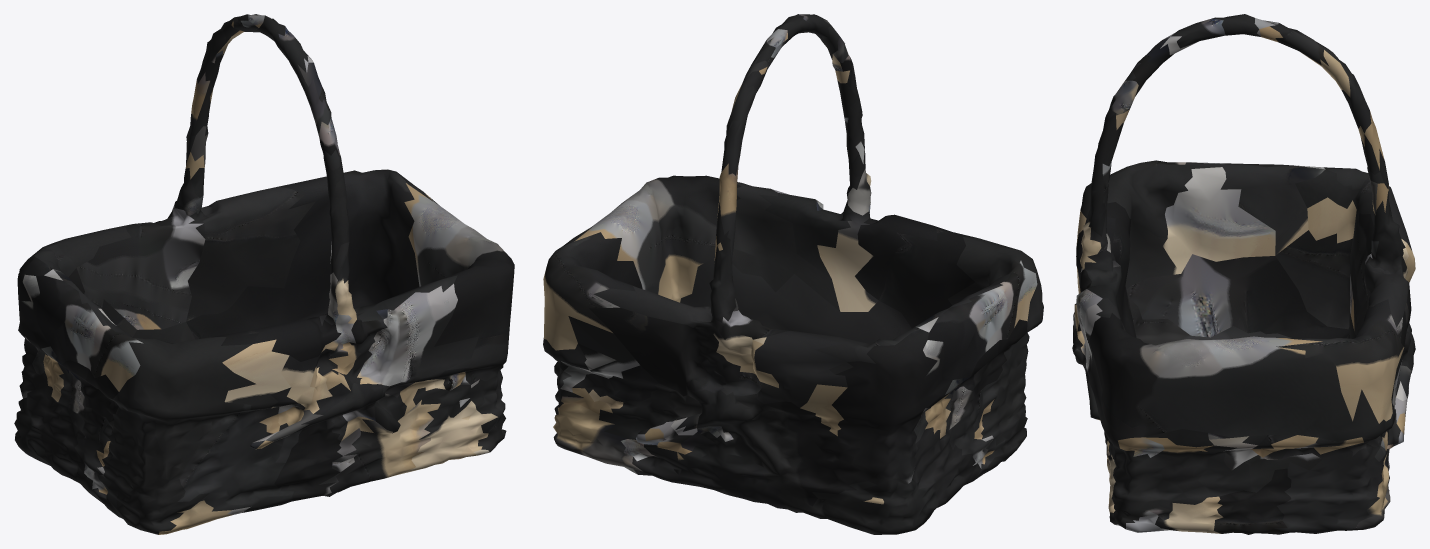
The model's file is PicnicBasket.obj.
The picture shows the model from 3 angles, left to right: view 1: azimuth 30°, elevation 25°; view 2: azimuth 150°, elevation 25°; view 3: azimuth 270°, elevation 25°; orthographic projection. The views are drawn at different scales.
Bounding box in the file's own units: 0.3641 × 0.3825 × 0.2705.
